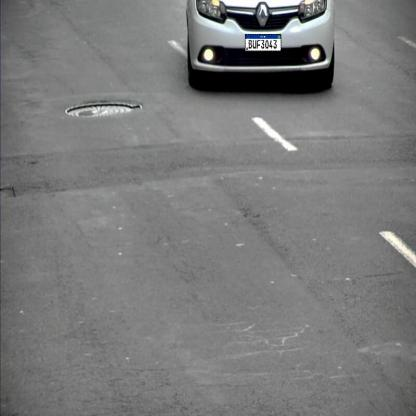PlacaM: (245, 34, 281, 51)
